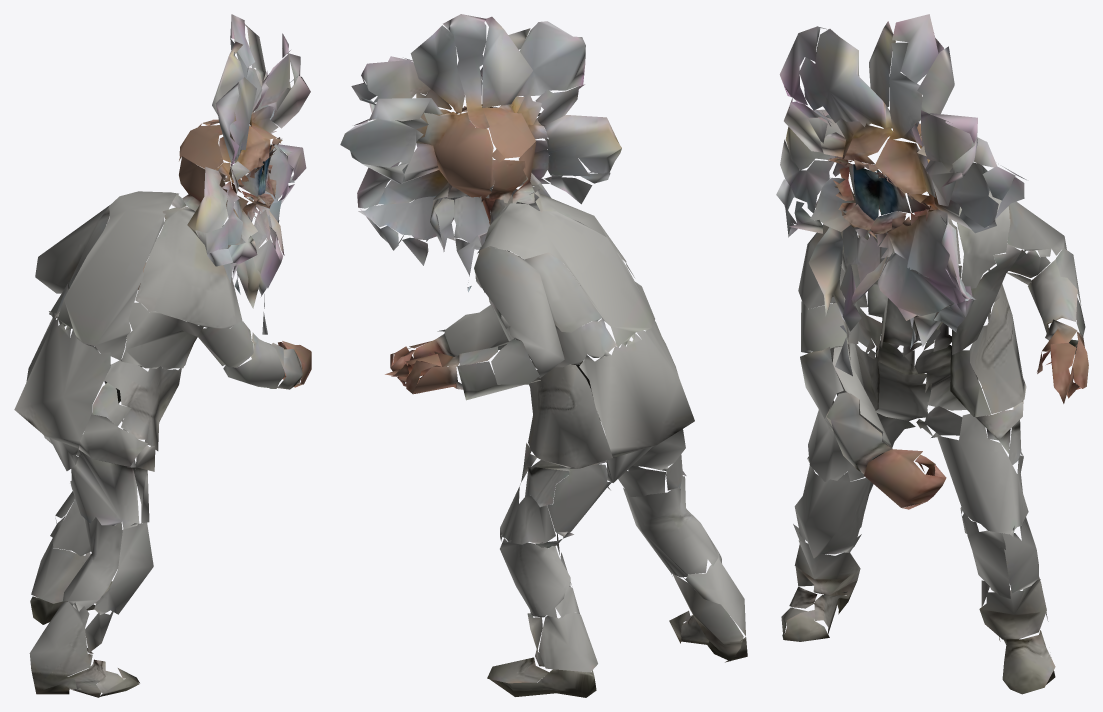
The model's file is crowd_hustler_full.glb.
3 renders of one model, left to right at view 1: azimuth 30°, elevation 25°; view 2: azimuth 150°, elevation 25°; view 3: azimuth 270°, elevation 25°, orthographic. The views are drawn at different scales.
Parts seen in each view (by area): view 1: tripo_node_9c831a25-49ee-4494-91a2-c6b040481e57; view 2: tripo_node_9c831a25-49ee-4494-91a2-c6b040481e57; view 3: tripo_node_9c831a25-49ee-4494-91a2-c6b040481e57.
Boxes of the visible parts, x1,y1,x2,y2 form: tripo_node_9c831a25-49ee-4494-91a2-c6b040481e57: (14, 14, 311, 697); tripo_node_9c831a25-49ee-4494-91a2-c6b040481e57: (340, 14, 747, 697); tripo_node_9c831a25-49ee-4494-91a2-c6b040481e57: (776, 14, 1088, 694).
Size of the model in its own units: 0.5701 by 1 by 0.3904.
Materials: 1 (1 with a texture image).
